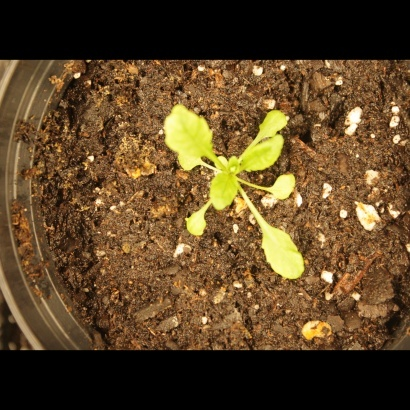leaf: (253, 217, 314, 291), (163, 98, 216, 159), (250, 105, 291, 145), (241, 136, 286, 172), (207, 171, 244, 213), (266, 173, 299, 204), (181, 211, 210, 241), (176, 148, 204, 174)
